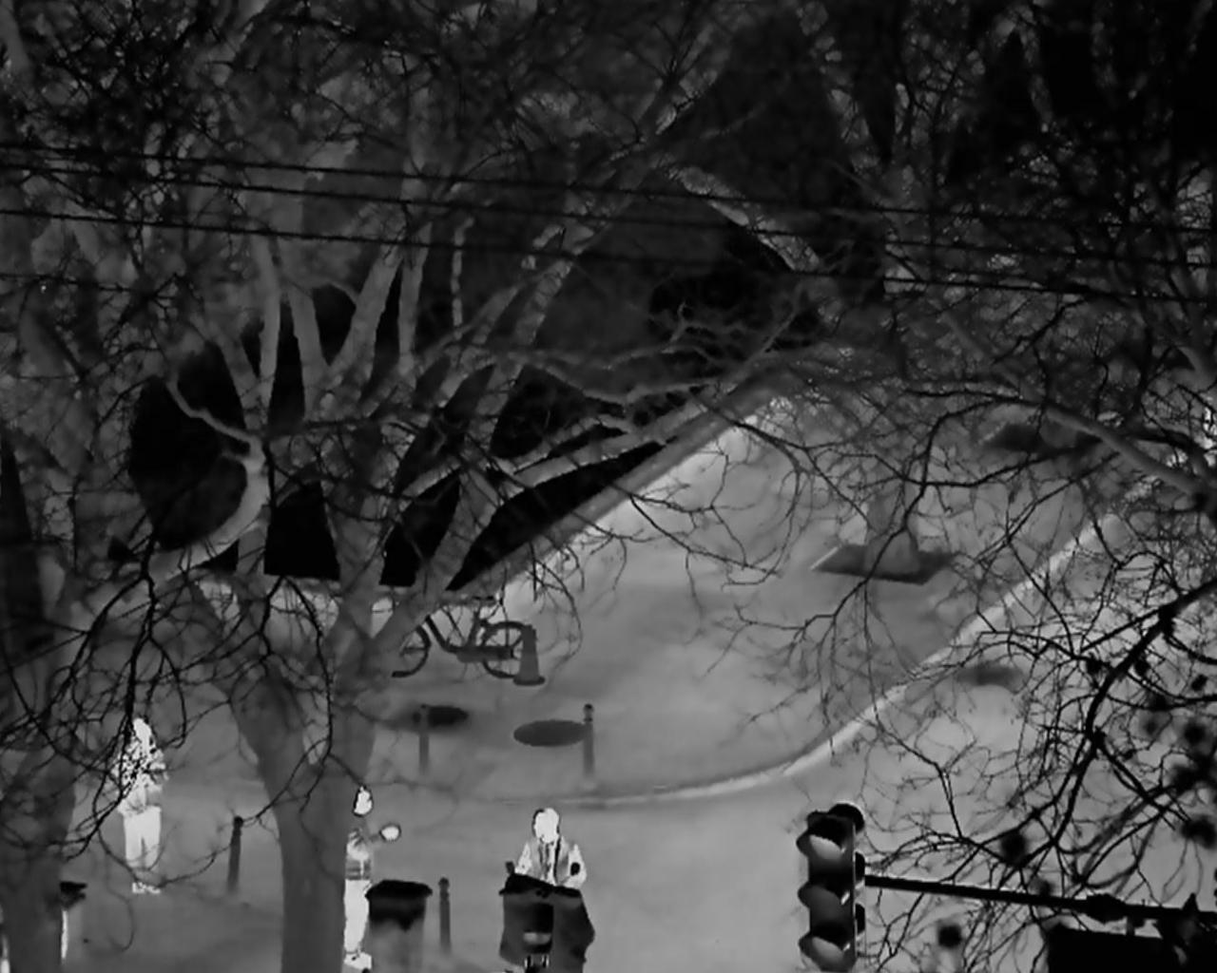person: (109, 715, 170, 895), (344, 786, 401, 971), (512, 805, 588, 895)
